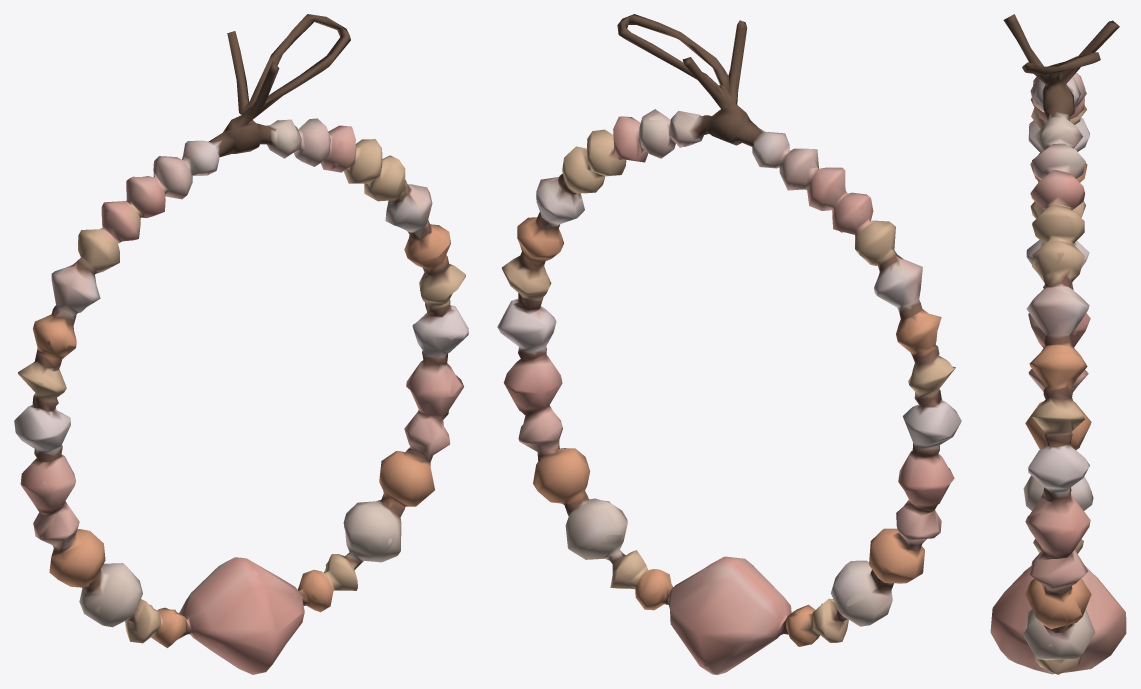
Rendered from gen3d-shell-necklace-lod0.glb.
The picture shows the model from 3 angles, left to right: view 1: azimuth 30°, elevation 25°; view 2: azimuth 150°, elevation 25°; view 3: azimuth 270°, elevation 25°; orthographic projection. The views are drawn at different scales.
Parts seen in each view (by area): view 1: part_0; view 2: part_0; view 3: part_0.
Boxes of the visible parts, x1=… form: part_0: x1=14, y1=14, x2=468, y2=674; part_0: x1=497, y1=14, x2=961, y2=674; part_0: x1=990, y1=14, x2=1126, y2=674.
Bounding box in the file's own units: 0.747 × 0.9984 × 0.185.
